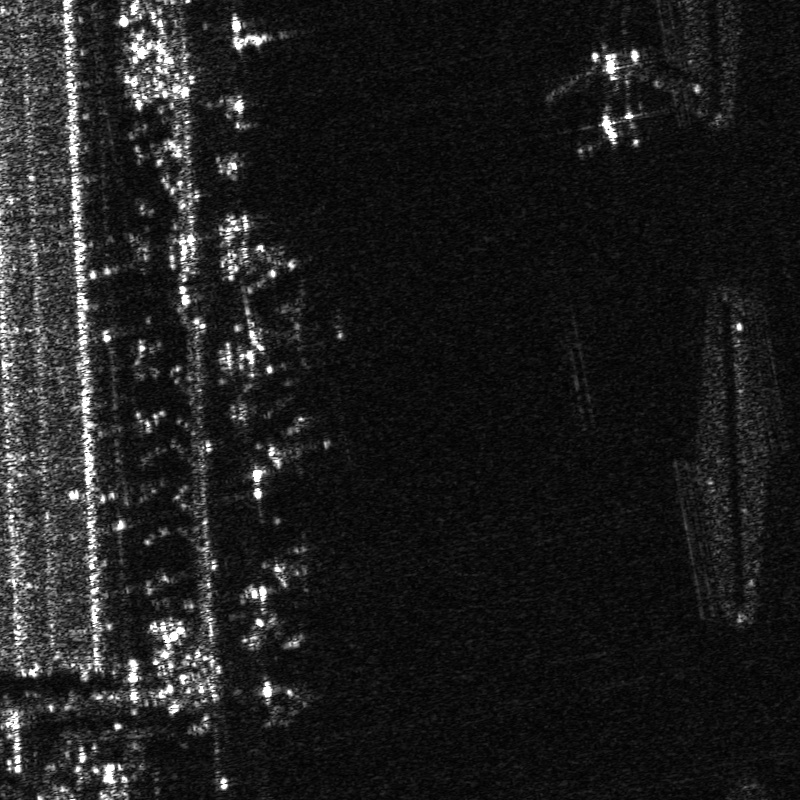A220: (245, 286, 352, 373)
other: (537, 24, 673, 158), (247, 405, 339, 473), (257, 528, 339, 593)
